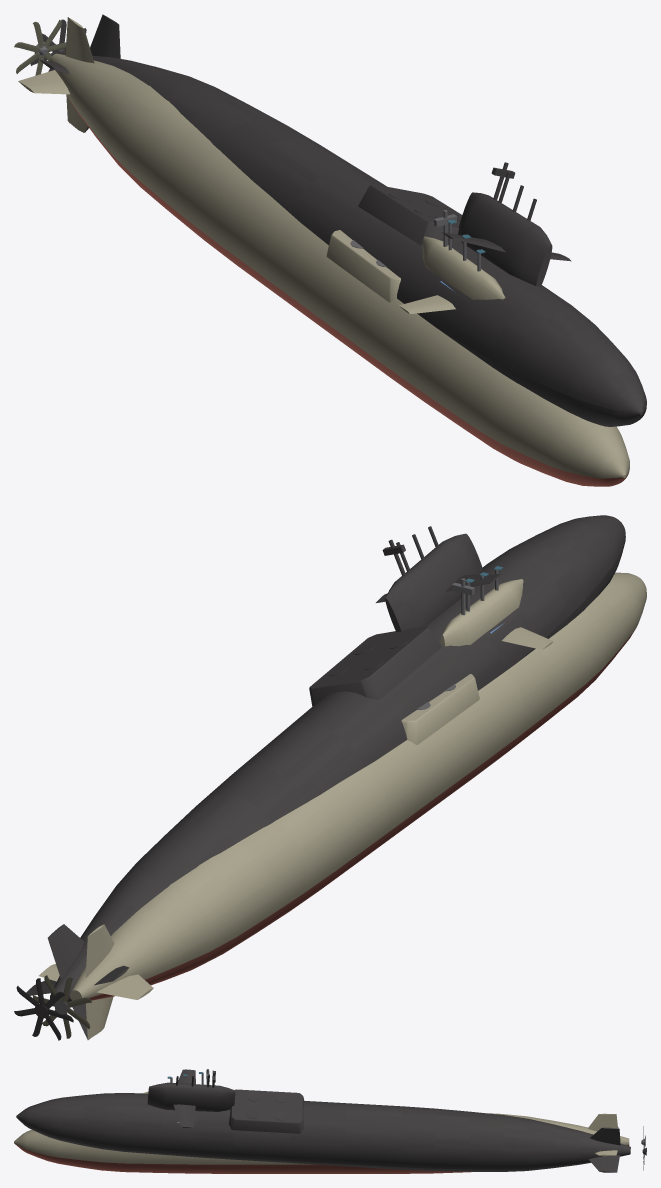
File: nuclearSub__arihant_class.glb
The picture shows the model from 3 angles, top to bottom: view 1: azimuth 30°, elevation 25°; view 2: azimuth 150°, elevation 25°; view 3: azimuth 270°, elevation 25°; orthographic projection. The views are drawn at different scales.
Visible parts, largest first — view 1: Hull_Mesh, Wreck; view 2: Hull_Mesh, Wreck; view 3: Wreck, Hull_Mesh.
Boxes of the visible parts, left/top/right/bottom form: Hull_Mesh: left=14, top=17, right=629, bottom=486; Wreck: left=30, top=14, right=646, bottom=426; Hull_Mesh: left=33, top=566, right=646, bottom=1039; Wreck: left=14, top=515, right=625, bottom=1040; Wreck: left=16, top=1069, right=646, bottom=1172; Hull_Mesh: left=14, top=1072, right=645, bottom=1173.
Size of what is drawn, in the model's own units: 17.84 by 22.27 by 110.
